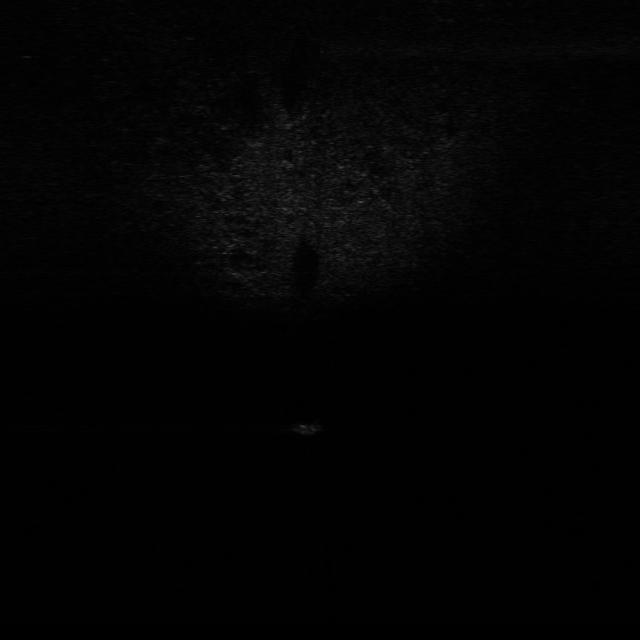cube: (290, 414, 324, 437)
